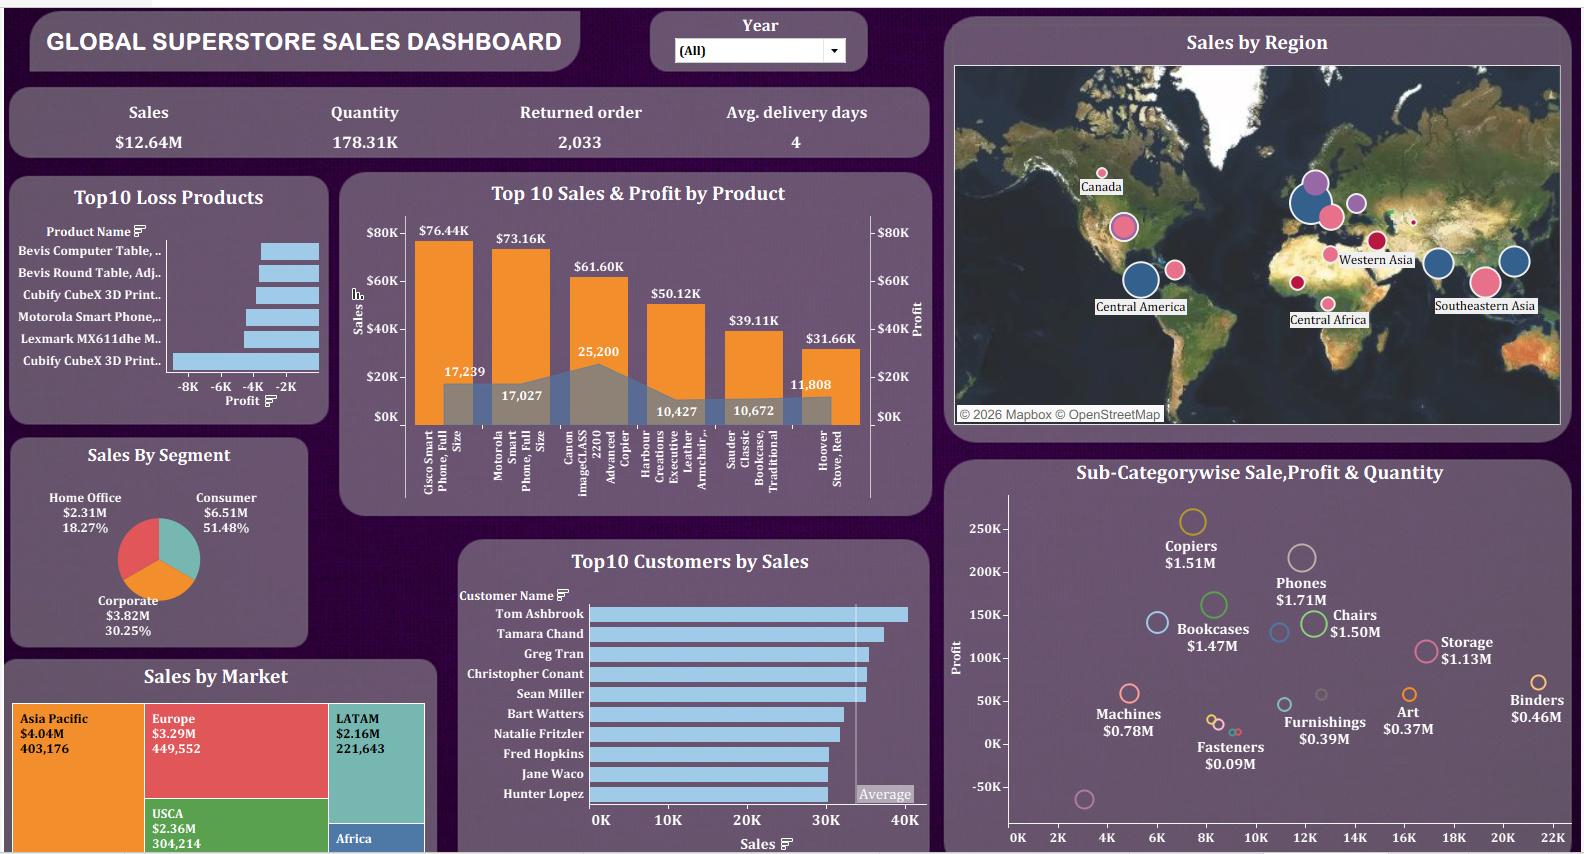

Layout of this report page (visuals, bound fields, positions):
{"tool":"tableau","page":{"name":"Dashboard 1","canvas":[1000,1000],"units":"permille","ordinal":0},"visuals":[{"type":"filter","title":"KPI","param":"[federated.1lxhuse0zd6jkq16w2bv11xtueqx].[yr:Order Date:ok]","box":[427.8,7.8,113,55.6]},{"type":"text","box":[24.9,14.4,335.9,46.7]},{"type":"worksheet","title":"Sales by Region","mark":"Automatic","box":[607.9,26.7,387.6,436.7]},{"type":"worksheet","title":"KPI","mark":"Automatic","box":[24.9,93.3,551.7,98.9]},{"type":"worksheet","title":"Top 10 Sales & Profit by Product","mark":"Automatic","rows":["Sales","Profit"],"cols":["Product Name"],"box":[222.2,187.8,367.8,357.8]},{"type":"worksheet","title":"Top10 Loss Products","mark":"Automatic","rows":["Product Name"],"cols":["Profit"],"box":[10.2,192.2,192.2,264.4]},{"type":"worksheet","title":"Sales By Segment","mark":"Pie","box":[7.7,480,185.2,224.4]},{"type":"worksheet","title":"Sub-Categorywise Sale,Profit & Quantity","mark":"Automatic","rows":["Profit"],"cols":["Quantity"],"box":[604.1,497.8,398.5,458.9]},{"type":"worksheet","title":"Top10 Customers by Sales","mark":"Automatic","rows":["Customer Name"],"cols":["Sales"],"box":[288,596.7,302.7,360]},{"type":"worksheet","title":"Sales by Market ","mark":"Automatic","box":[3.8,724.4,268.2,234.4]}]}

Visuals, with their boxes on the dashboard's canvas, which has no fixed pixel size, in thousandths of its width and height (x1, y1, x2, y2). These are canvas units, not pixel positions in the 1584x854 screenshot, which may show the page scaled, cropped or inside an application window:
"KPI" filter: (left=428, top=8, right=541, bottom=63)
text: (left=25, top=14, right=361, bottom=61)
"Sales by Region" worksheet: (left=608, top=27, right=996, bottom=463)
"KPI" worksheet: (left=25, top=93, right=577, bottom=192)
"Top 10 Sales & Profit by Product" worksheet: (left=222, top=188, right=590, bottom=546)
"Top10 Loss Products" worksheet: (left=10, top=192, right=202, bottom=457)
"Sales By Segment" worksheet (Pie marks): (left=8, top=480, right=193, bottom=704)
"Sub-Categorywise Sale,Profit & Quantity" worksheet: (left=604, top=498, right=1003, bottom=957)
"Top10 Customers by Sales" worksheet: (left=288, top=597, right=591, bottom=957)
"Sales by Market " worksheet: (left=4, top=724, right=272, bottom=959)
